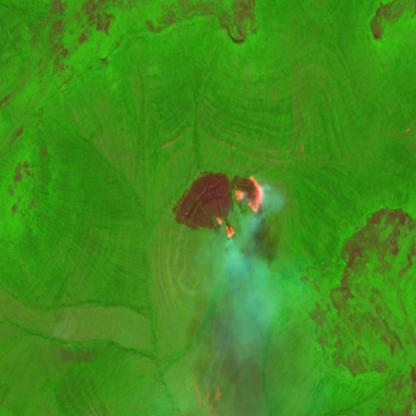fire: (216, 171, 264, 242)
